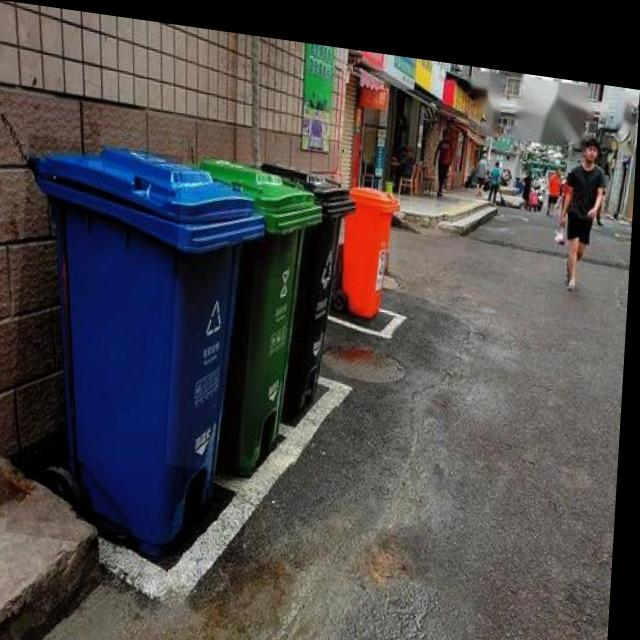garbage_bin: (12, 134, 267, 557), (171, 147, 325, 474), (240, 152, 358, 409), (341, 172, 402, 308)
